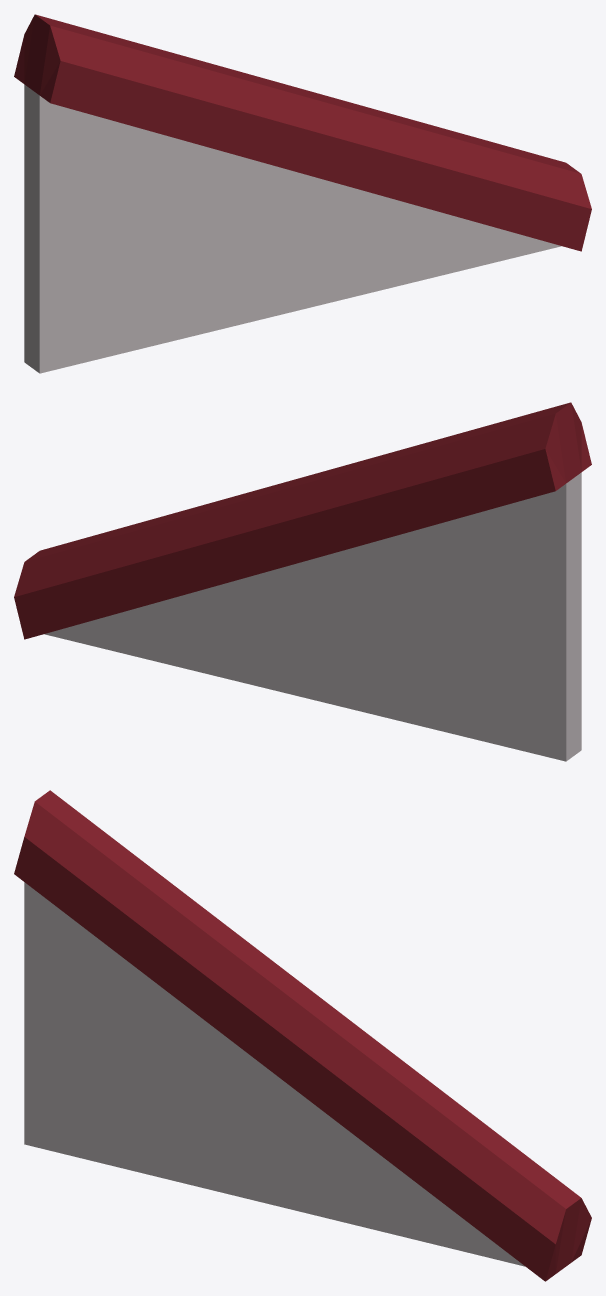
Rendered from BRoofTriangle_A.fbx.
3 views of the same model, one above another, from view 1: azimuth 30°, elevation 25°; view 2: azimuth 150°, elevation 25°; view 3: azimuth 330°, elevation 25° (orthographic).
Parts seen in each view (by area): view 1: BRoofTriangle_A; view 2: BRoofTriangle_A; view 3: BRoofTriangle_A.
Boxes of the visible parts, x1=… form: BRoofTriangle_A: x1=14, y1=14, x2=591, y2=373; BRoofTriangle_A: x1=14, y1=402, x2=591, y2=761; BRoofTriangle_A: x1=14, y1=790, x2=591, y2=1281.
Size of the model in its own units: 408 by 249 by 47.25.
